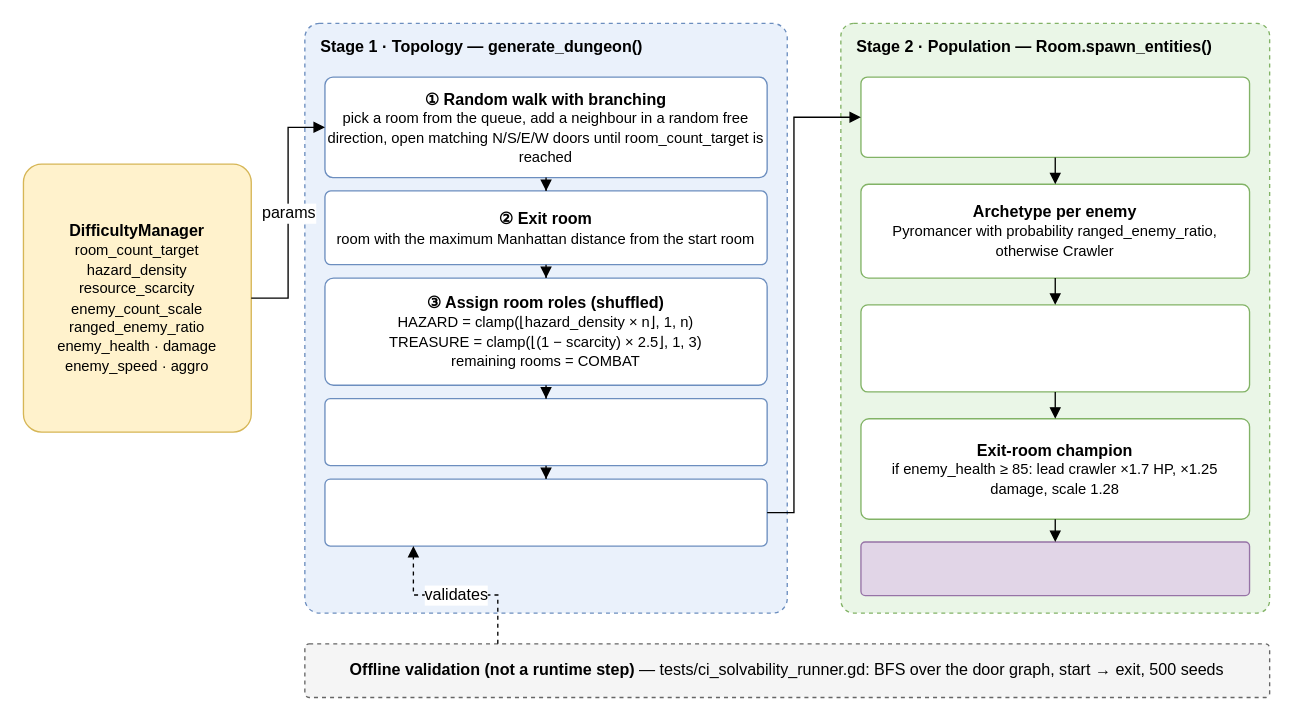
Some shapes in this 1293 by 721 pixel diagram are drawn without their labels. Each missing label, with the centre of its shape:
"configure_parameters() health · damage · speed · aggro from the PPO action" goes at [1055,348].
"Hazards & pickups random positions inside the room" goes at [1055,116].
"Playable floor : Room scenes · MiniMap · Player" goes at [1055,568].
"④ Per-room counts enemies, hazards, pickups; enemy counts × enemy_count_scale" goes at [545,431].
"⑤ World placement grid position × (880×520 room + 120 px spacing)" goes at [545,512].
